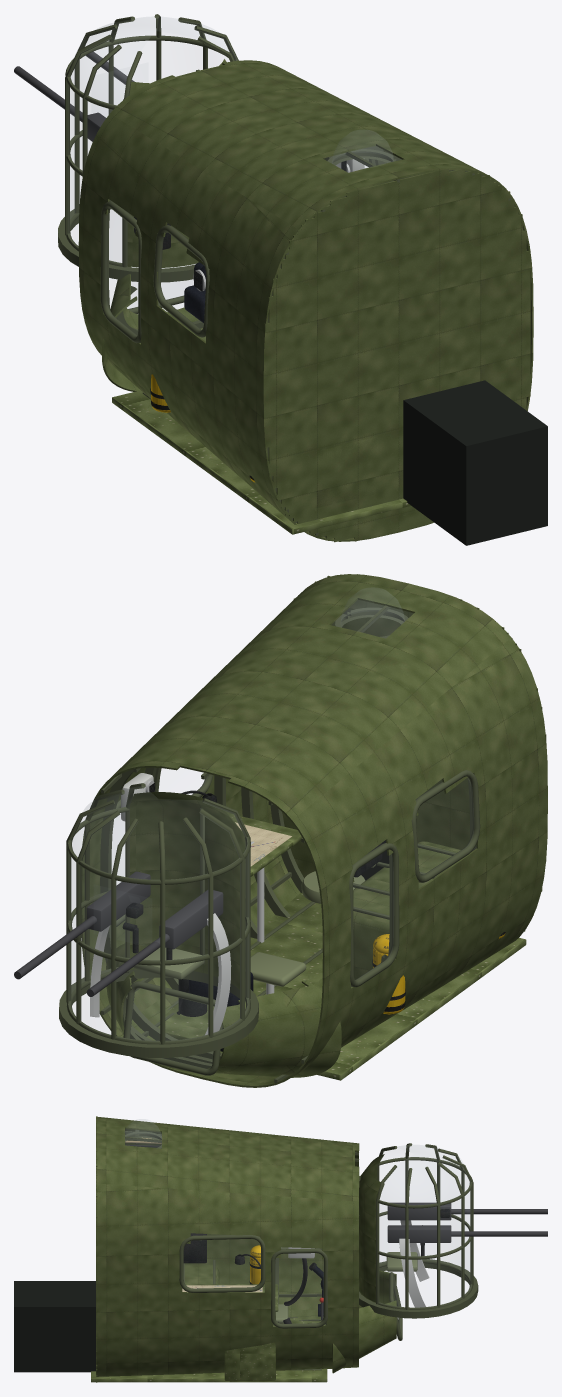
File: b24-nose-compartment.glb
The picture shows the model from 3 angles, top to bottom: view 1: azimuth 30°, elevation 25°; view 2: azimuth 150°, elevation 25°; view 3: azimuth 270°, elevation 25°; orthographic projection. The views are drawn at different scales.
Parts seen in each view (by area): view 1: nose_bronze_green, tunnel_dark, nose_frame_green, plexiglas, floor_plate, gunmetal, norden_enamel; view 2: nose_bronze_green, nose_frame_green, plexiglas, floor_plate, gunmetal, green_padding, aluminium, black_crinkle, olive_drab, nav_chart, oxygen_yellow; view 3: nose_bronze_green, nose_frame_green, tunnel_dark, plexiglas, gunmetal, floor_plate, olive_drab, black_crinkle, aluminium, green_padding, oxygen_yellow, hose_black.
Part boxes in pixels (x1,y1,x2,y2): nose_bronze_green: [78, 59, 533, 542]; tunnel_dark: [403, 380, 547, 545]; nose_frame_green: [58, 14, 526, 538]; plexiglas: [70, 17, 394, 308]; floor_plate: [112, 390, 410, 534]; gunmetal: [14, 51, 134, 141]; norden_enamel: [184, 262, 206, 322]; nose_bronze_green: [81, 574, 547, 1087]; nose_frame_green: [59, 605, 480, 1083]; plexiglas: [71, 588, 404, 1040]; floor_plate: [155, 893, 526, 1080]; gunmetal: [14, 871, 223, 996]; green_padding: [133, 864, 375, 986]; aluminium: [90, 780, 274, 1035]; black_crinkle: [122, 790, 405, 1016]; olive_drab: [178, 813, 301, 979]; nav_chart: [235, 822, 291, 866]; oxygen_yellow: [373, 932, 505, 1014]; nose_bronze_green: [96, 1116, 396, 1382]; nose_frame_green: [125, 1129, 478, 1370]; tunnel_dark: [14, 1281, 95, 1372]; plexiglas: [124, 1119, 469, 1306]; gunmetal: [321, 1202, 547, 1319]; floor_plate: [91, 1318, 327, 1382]; olive_drab: [185, 1284, 278, 1380]; black_crinkle: [183, 1209, 450, 1323]; aluminium: [399, 1220, 429, 1307]; green_padding: [276, 1252, 417, 1323]; oxygen_yellow: [250, 1245, 260, 1284]; hose_black: [125, 1144, 307, 1305].
Size of the model in its own units: 1.98 by 2.63 by 5.2.
20 materials, 9 textured.
